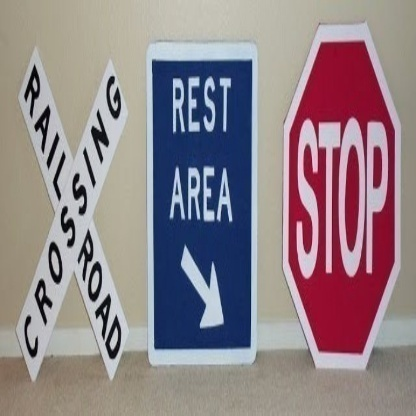stop: (282, 21, 401, 372)
